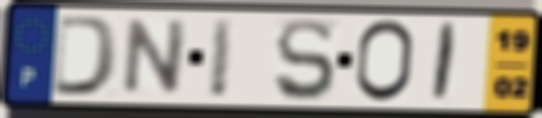D: (49, 13, 123, 98)
I: (428, 21, 461, 105), (206, 16, 237, 101)
N: (118, 16, 191, 96)
O: (352, 17, 418, 106)
S: (272, 16, 338, 104)
